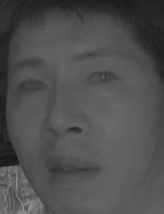eye: (81, 67, 119, 93), (16, 76, 49, 98)
mouth: (41, 151, 102, 186)
